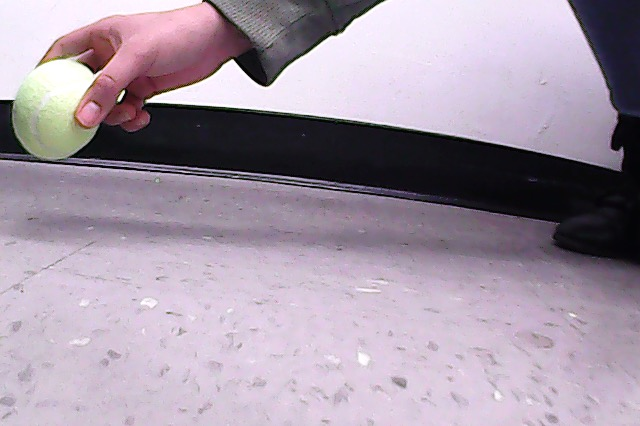ball: (14, 61, 102, 161)
